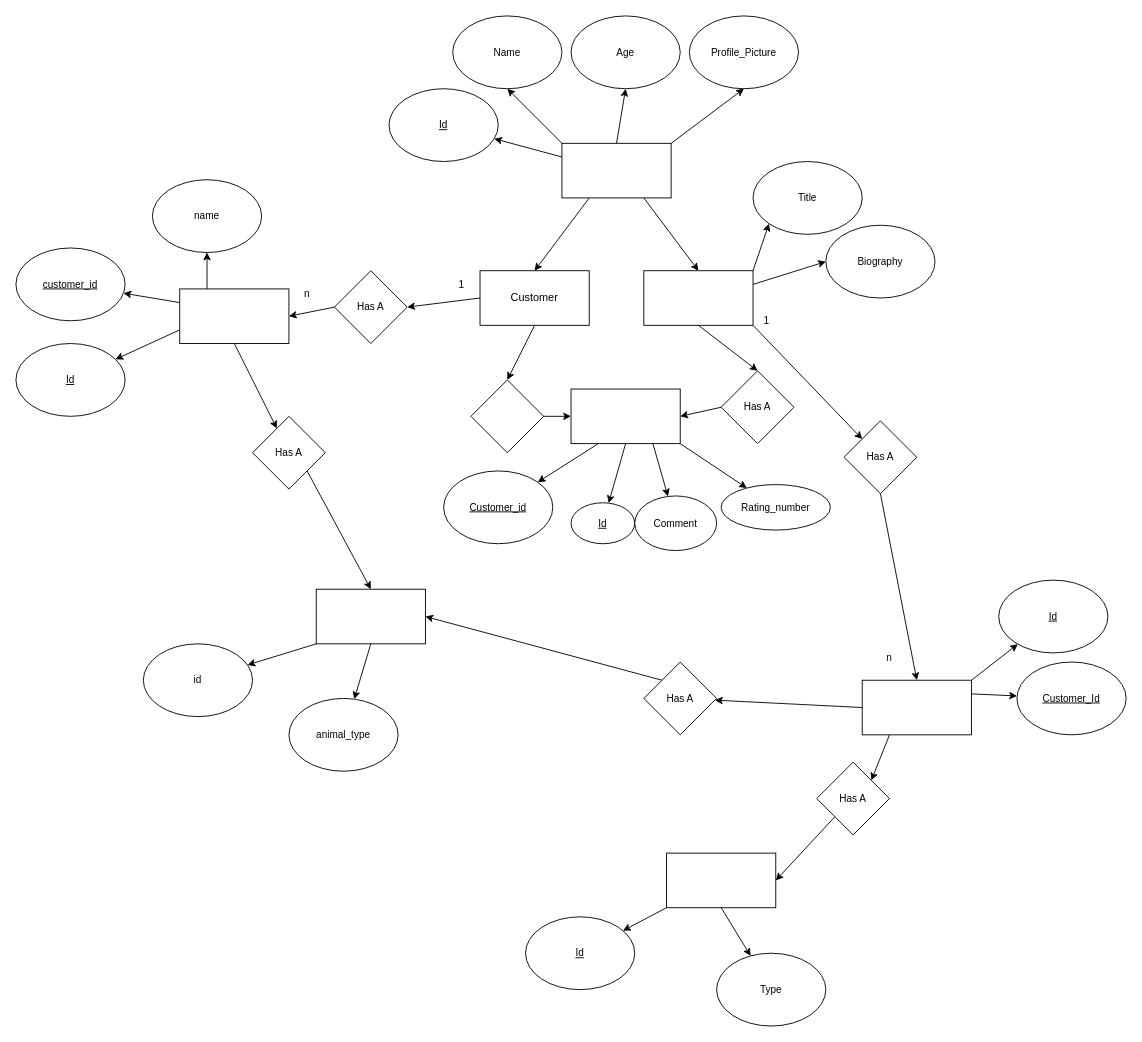
Image size: 1142x1042. Some labels were removed from this diagram. Here are the shapes that lost their labels. From the top down, the centre of each, then its label:
point (616, 170): User
point (234, 316): Pet
point (698, 297): Service_Provider
point (507, 416): Gives A
point (625, 416): Review
point (370, 616): Animal Type
point (916, 707): Service
point (721, 880): Service_Type
